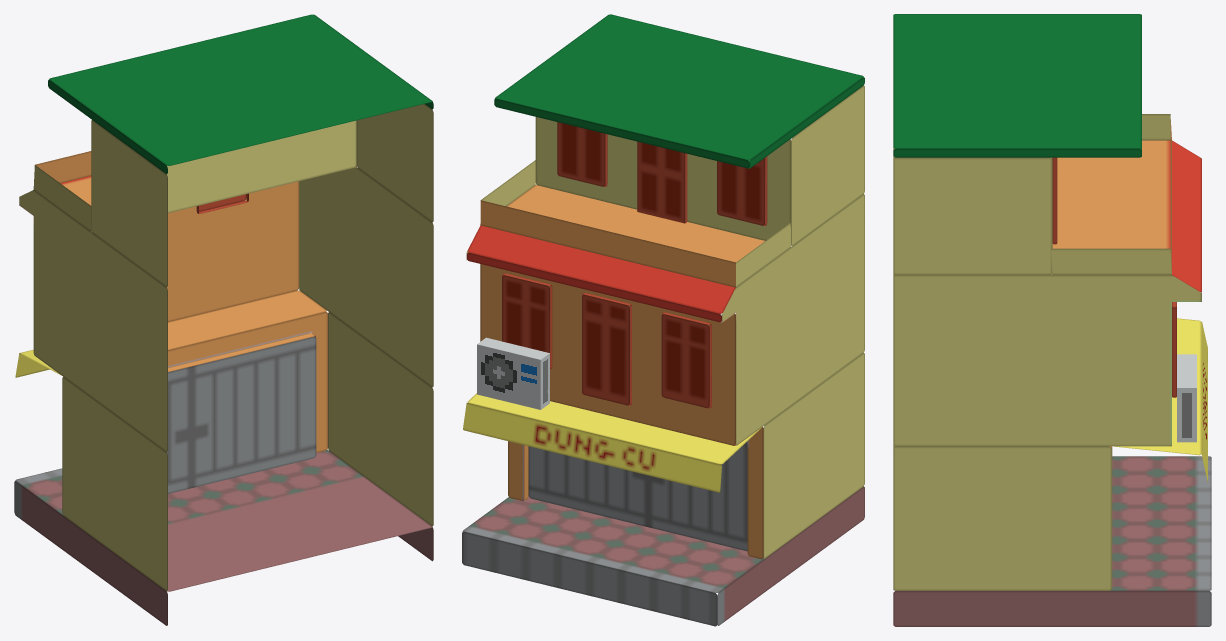
File: House 4.fbx
3 renders of one model, left to right at view 1: azimuth 30°, elevation 25°; view 2: azimuth 150°, elevation 25°; view 3: azimuth 270°, elevation 25°, orthographic. The views are drawn at different scales.
Parts seen in each view (by area): view 1: House, SideRoad, plane; view 2: House, SideRoad, plane, cuboid_2, cuboid, AC, cuboid_3, cuboid_1, cuboid_5, cuboid_4; view 3: House, SideRoad, plane, AC, cuboid_4, cuboid_1.
Part boxes in pixels (<box>): House: <box>19,14,433,591</box>; SideRoad: <box>14,449,433,625</box>; plane: <box>15,349,60,377</box>; House: <box>466,14,864,559</box>; SideRoad: <box>462,486,864,626</box>; plane: <box>463,393,761,492</box>; cuboid_2: <box>582,293,631,405</box>; cuboid: <box>661,312,711,408</box>; AC: <box>477,337,549,409</box>; cuboid_3: <box>637,141,687,223</box>; cuboid_1: <box>502,273,552,369</box>; cuboid_5: <box>717,156,767,225</box>; cuboid_4: <box>557,122,607,186</box>; House: <box>893,14,1201,590</box>; SideRoad: <box>893,456,1211,626</box>; plane: <box>1114,318,1207,482</box>; AC: <box>1177,354,1196,442</box>; cuboid_4: <box>1052,157,1057,244</box>; cuboid_1: <box>1172,302,1176,397</box>.
Bounding box in the file's own units: 202 × 331 × 200.
Materials: 3 (3 with a texture image).
